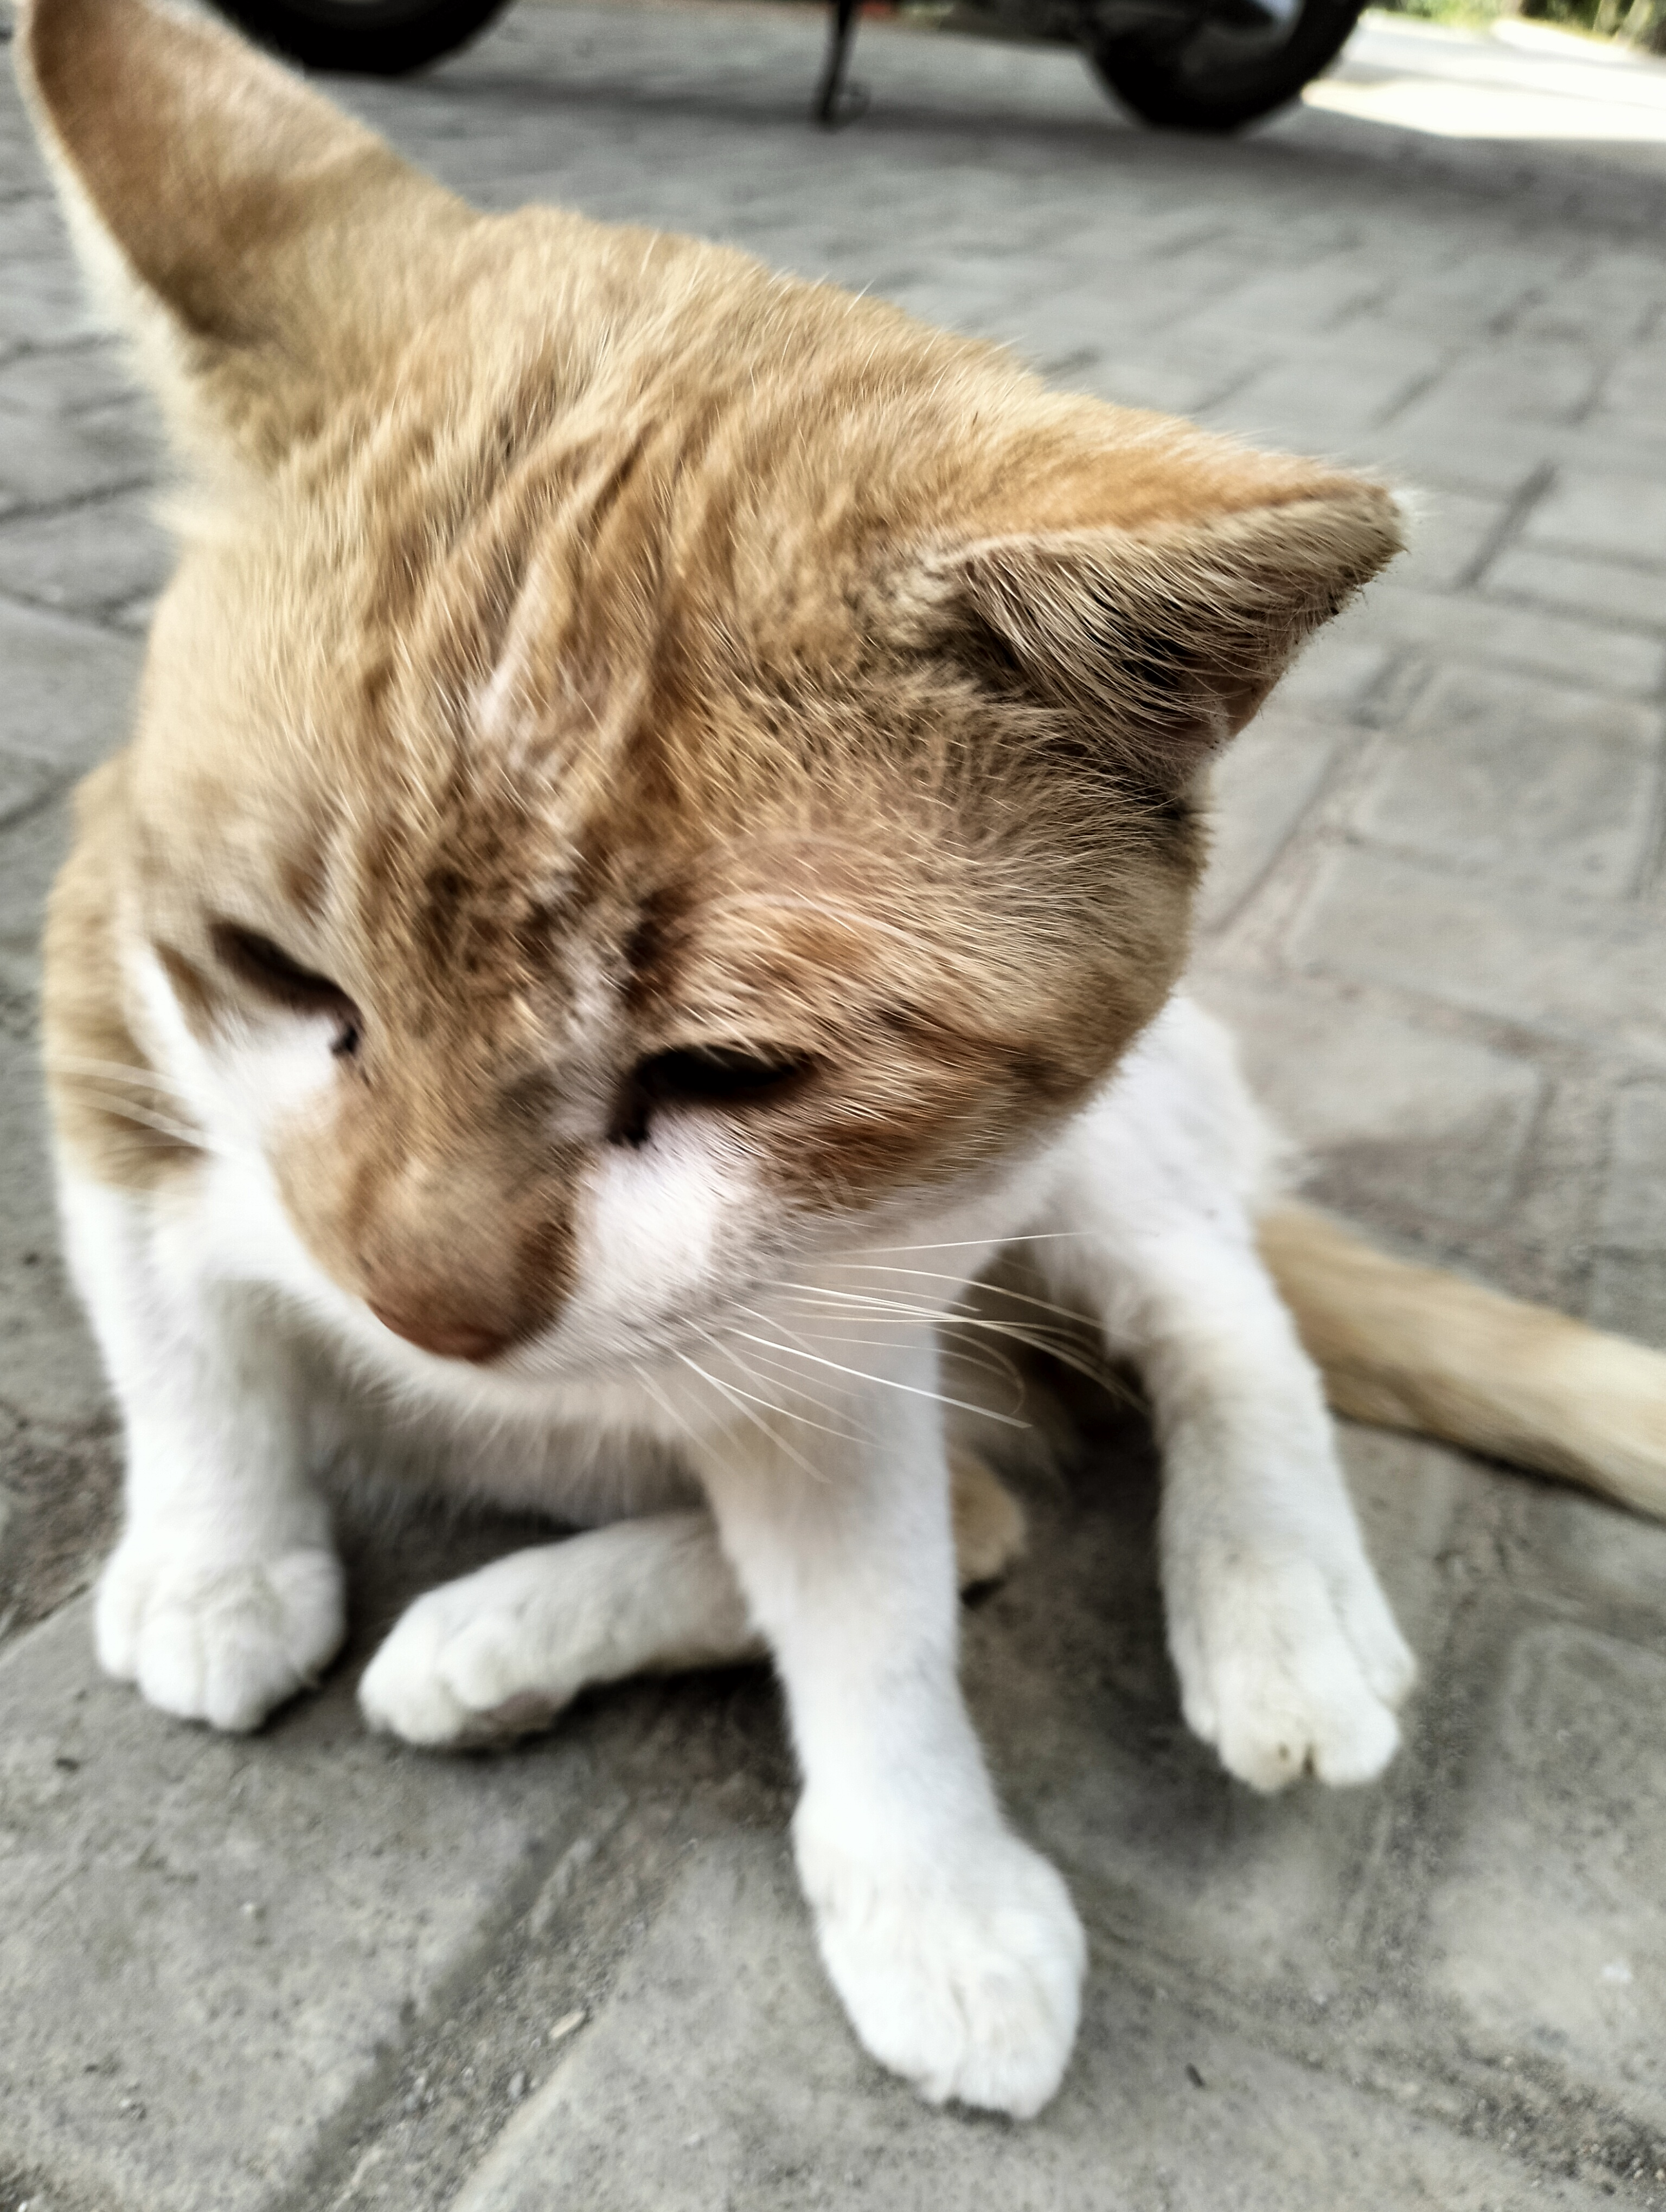oyen: (32, 12, 1458, 1460)
